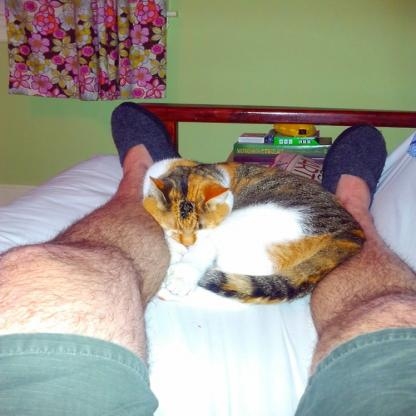Target: (134, 158, 366, 305)
